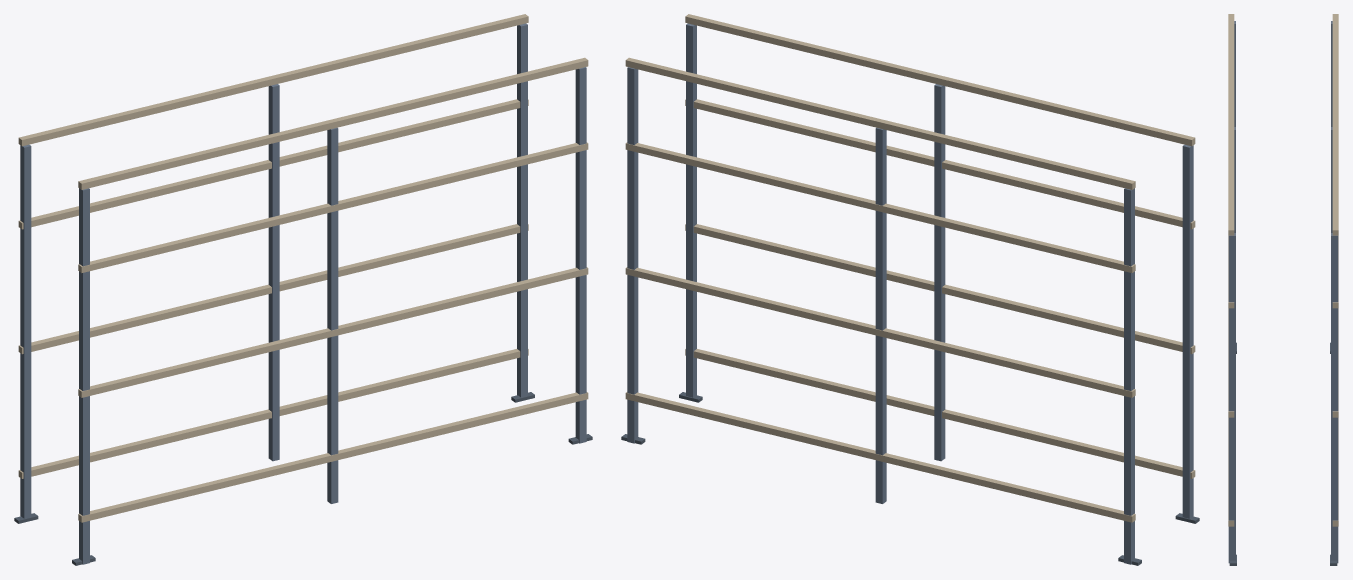
File: pallet-rack.glb
The picture shows the model from 3 angles, left to right: view 1: azimuth 30°, elevation 25°; view 2: azimuth 150°, elevation 25°; view 3: azimuth 270°, elevation 25°; orthographic projection. The views are drawn at different scales.
Parts seen in each view (by area): view 1: GEO-beam_3_-1, GEO-beam_3_1, GEO-beam_2_-1, GEO-beam_0_-1, GEO-beam_1_-1, GEO-beam_2_1, GEO-beam_0_1, GEO-beam_1_1, GEO-post_-1_1, GEO-post_0_-1, GEO-post_1_-1, GEO-post_0_1 (+2 smaller); view 2: GEO-beam_3_1, GEO-beam_3_-1, GEO-beam_2_1, GEO-beam_0_1, GEO-beam_1_1, GEO-beam_2_-1, GEO-beam_0_-1, GEO-beam_1_-1, GEO-post_-1_-1, GEO-post_0_1, GEO-post_1_1, GEO-post_0_-1 (+2 smaller); view 3: GEO-post_1_-1, GEO-post_1_1, GEO-beam_3_-1, GEO-beam_3_1, GEO-post_-1_-1, GEO-post_-1_1, GEO-post_0_-1, GEO-post_0_1.
Boxes of the visible parts, <box> form: GEO-beam_3_-1: <box>78,57,588,189</box>; GEO-beam_3_1: <box>18,14,528,146</box>; GEO-beam_2_-1: <box>78,142,588,272</box>; GEO-beam_0_-1: <box>78,392,588,522</box>; GEO-beam_1_-1: <box>78,267,588,397</box>; GEO-beam_2_1: <box>18,99,528,229</box>; GEO-beam_0_1: <box>18,349,528,478</box>; GEO-beam_1_1: <box>18,224,528,354</box>; GEO-post_-1_1: <box>20,144,31,518</box>; GEO-post_0_-1: <box>327,127,338,503</box>; GEO-post_1_-1: <box>575,67,586,443</box>; GEO-post_0_1: <box>268,84,279,461</box>; GEO-beam_3_1: <box>625,57,1135,189</box>; GEO-beam_3_-1: <box>685,14,1195,146</box>; GEO-beam_2_1: <box>625,142,1135,272</box>; GEO-beam_0_1: <box>625,392,1135,522</box>; GEO-beam_1_1: <box>625,267,1135,397</box>; GEO-beam_2_-1: <box>685,99,1195,229</box>; GEO-beam_0_-1: <box>685,349,1195,478</box>; GEO-beam_1_-1: <box>685,224,1195,354</box>; GEO-post_-1_-1: <box>1182,144,1193,518</box>; GEO-post_0_1: <box>875,127,886,503</box>; GEO-post_1_1: <box>627,67,638,443</box>; GEO-post_0_-1: <box>934,84,945,461</box>; GEO-post_1_-1: <box>1228,233,1235,563</box>; GEO-post_1_1: <box>1331,233,1338,563</box>; GEO-beam_3_-1: <box>1228,14,1234,235</box>; GEO-beam_3_1: <box>1332,14,1338,235</box>; GEO-post_-1_-1: <box>1234,21,1235,126</box>; GEO-post_-1_1: <box>1331,21,1332,126</box>; GEO-post_0_-1: <box>1234,127,1235,232</box>; GEO-post_0_1: <box>1331,127,1332,232</box>.
Bounding box in the file's own units: 10.4 × 7.34 × 2.2.
